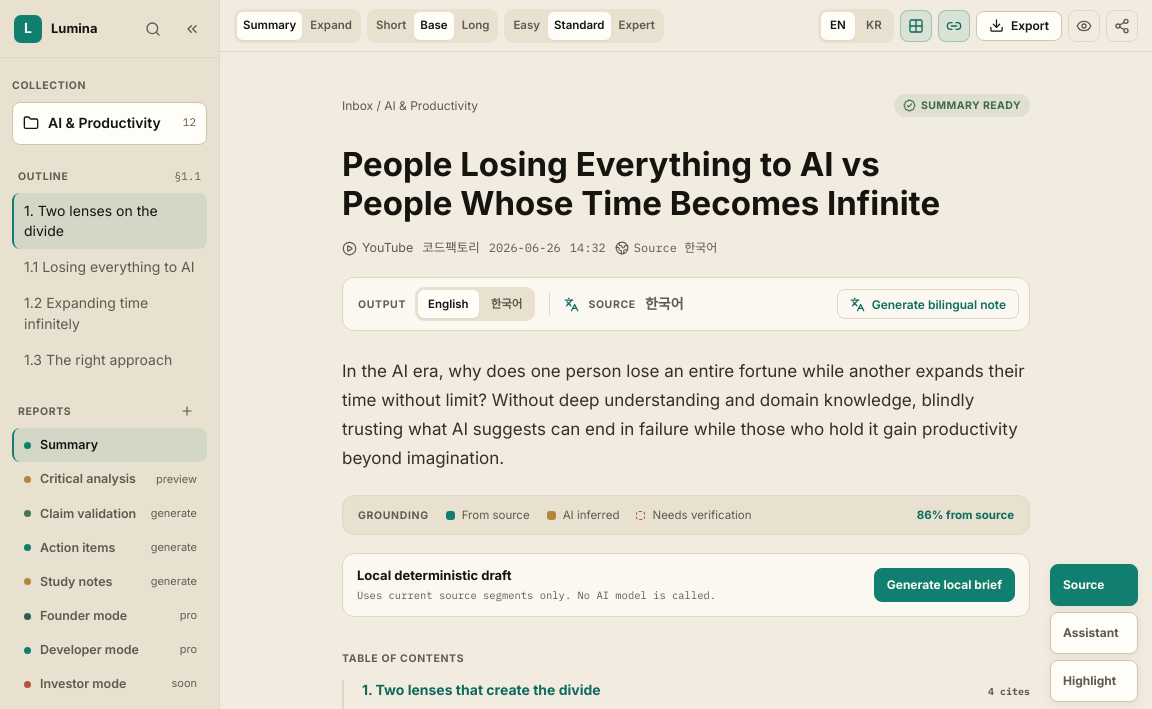
Test: WorkspaceShell › generates a local deterministic brief with evidence, brief blocks, and citations
Expected: the button "Copy brief Markdown" is not shown
Expected: the button "Copy evidence Markdown" is not shown
Click the button "Generate local brief". click: (944, 585)
box: [874,568,1015,602]
(page scrolled)
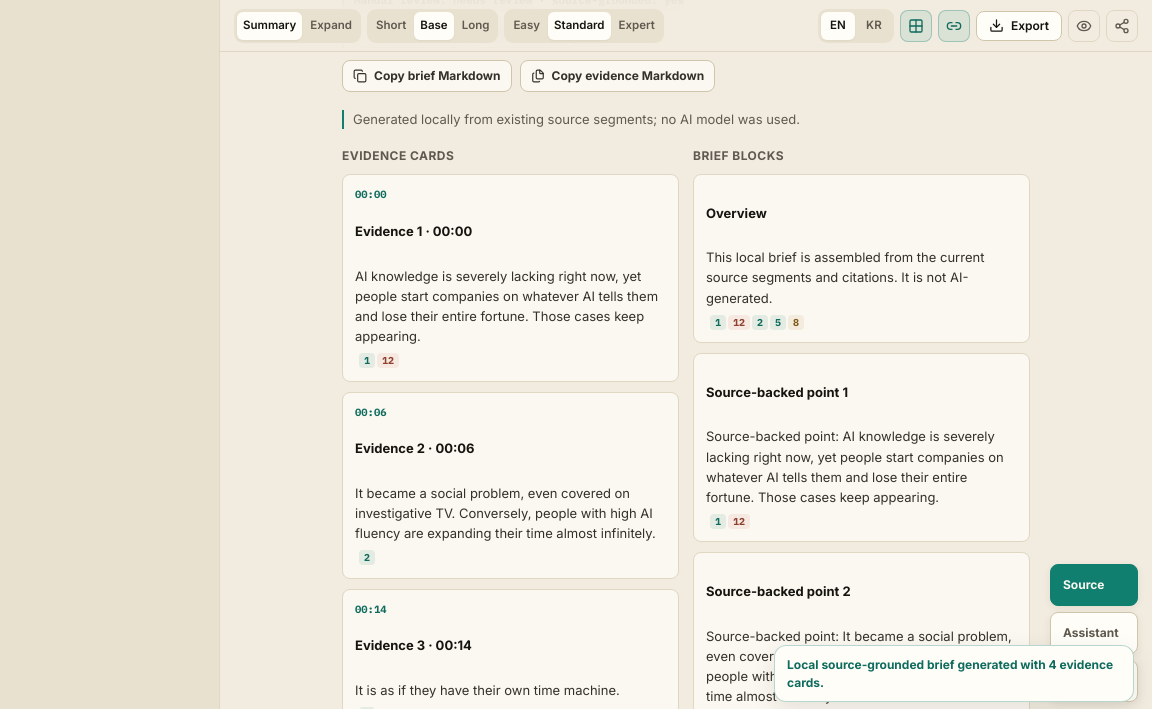
Now the heading "Evidence cards" is shown, box [342,148,454,163]
Now the heading "Brief blocks" is shown, box [693,148,784,163]
Now the button "Copy brief Markdown" is enabled, box [342,60,512,92]
